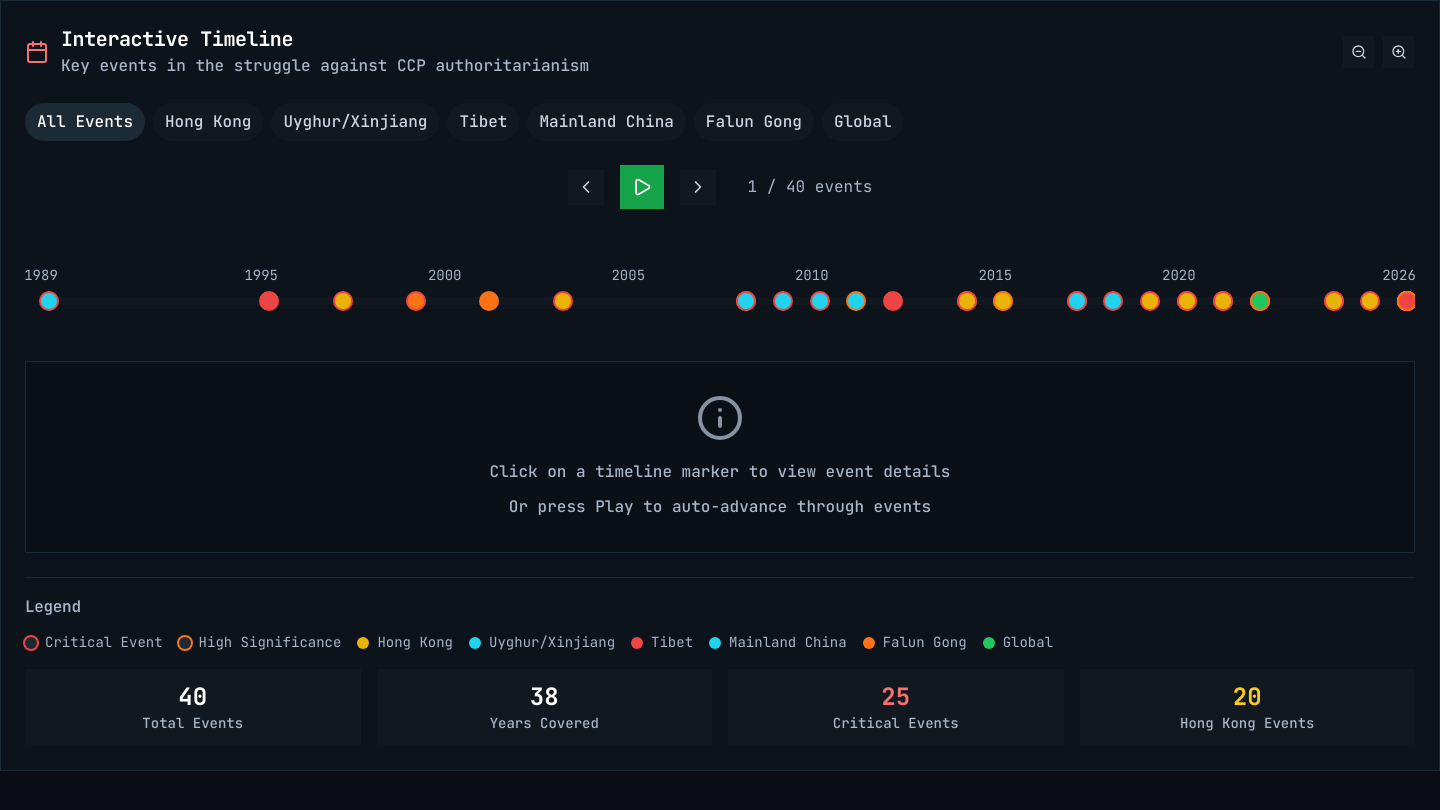
Scenario: InteractiveTimeline › selects next event when forward button is clicked
Click the button named "Next event": point(698, 187) [680, 169, 716, 205]
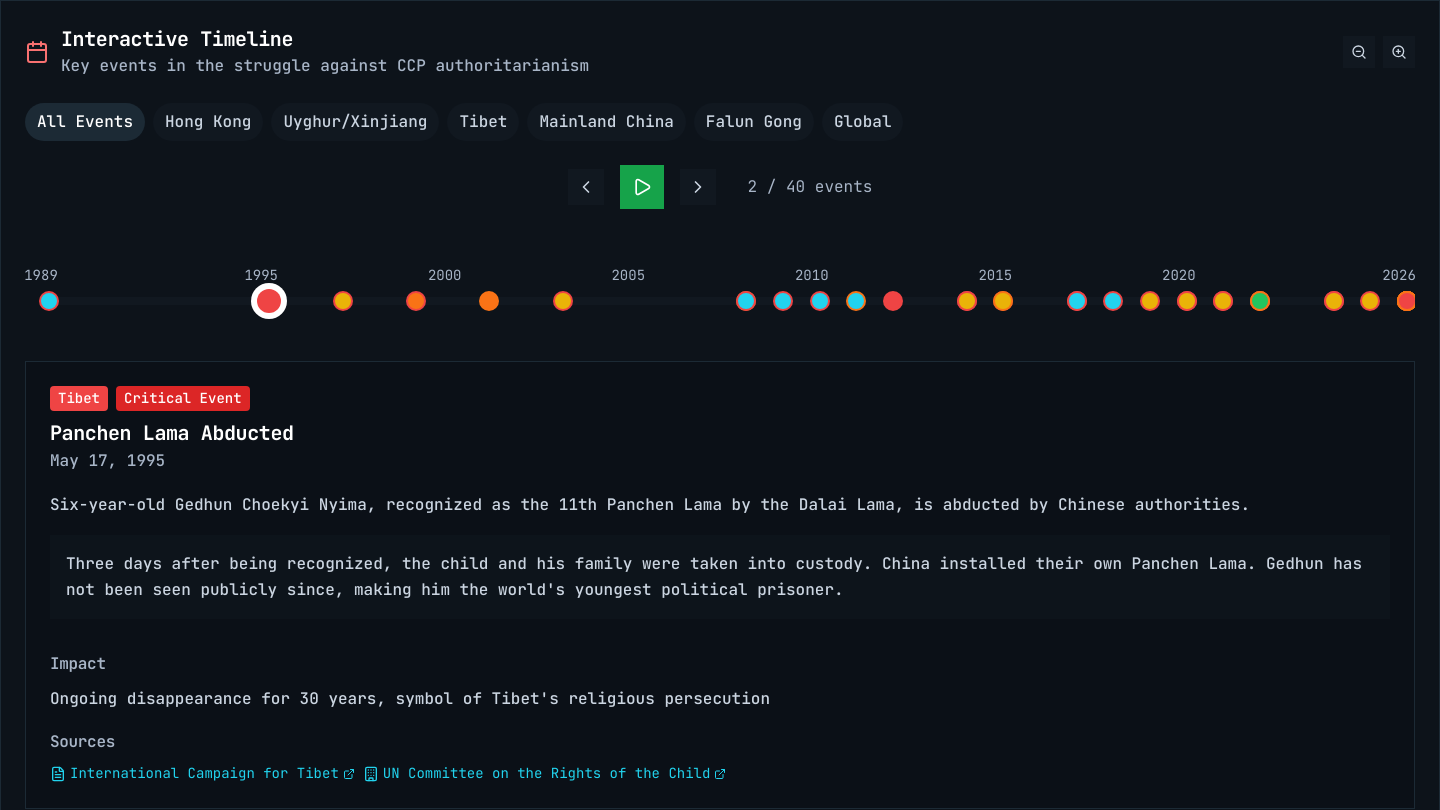
Now the text "2 / 40 events" is shown, box [748, 174, 872, 200]
